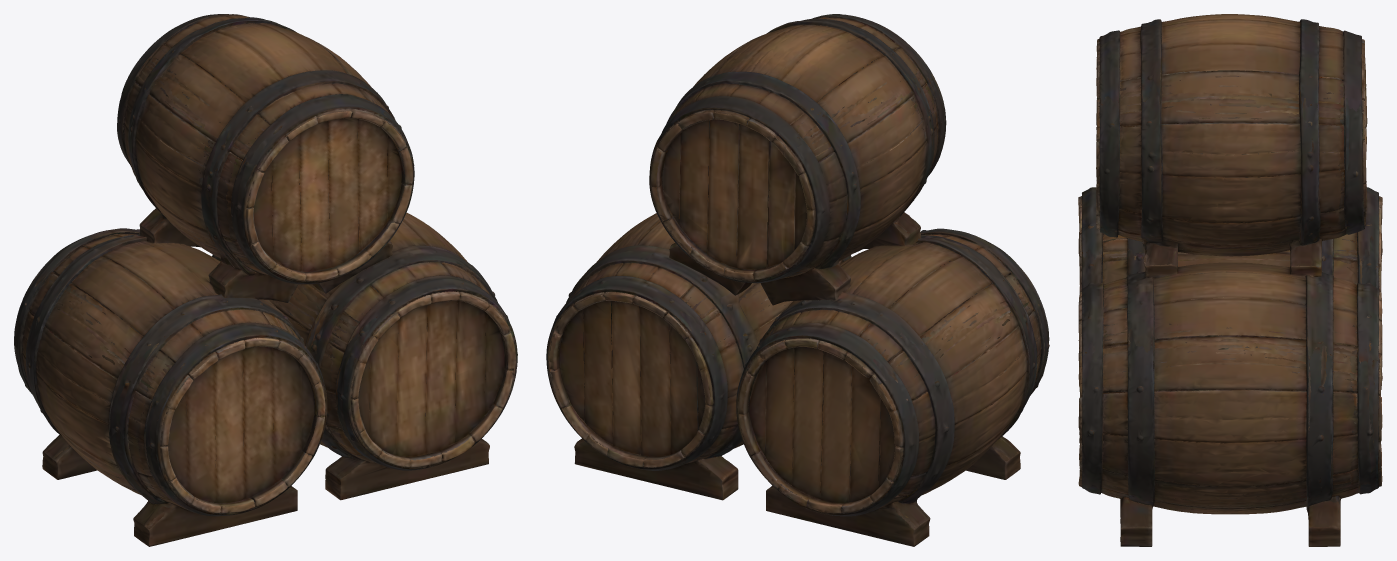
File: stacked-barrels.glb
The picture shows the model from 3 angles, left to right: view 1: azimuth 30°, elevation 25°; view 2: azimuth 150°, elevation 25°; view 3: azimuth 270°, elevation 25°; orthographic projection. The views are drawn at different scales.
Parts seen in each view (by area): view 1: mesh_node; view 2: mesh_node; view 3: mesh_node.
Part boxes in pixels (<box>): mesh_node: <box>14,14,517,546</box>; mesh_node: <box>546,14,1049,546</box>; mesh_node: <box>1078,14,1382,546</box>.
Size of the model in its own units: 1.89 by 1.9 by 1.2.
1 material, 1 textured.
